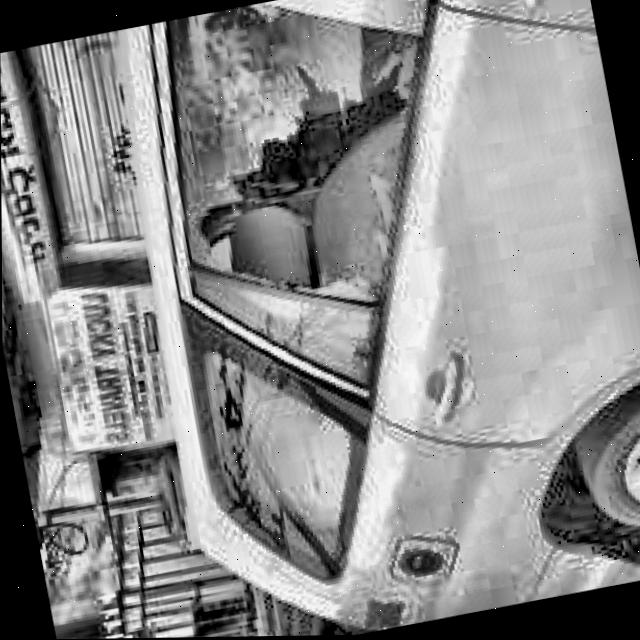glass_shatter: (180, 76, 397, 315)
